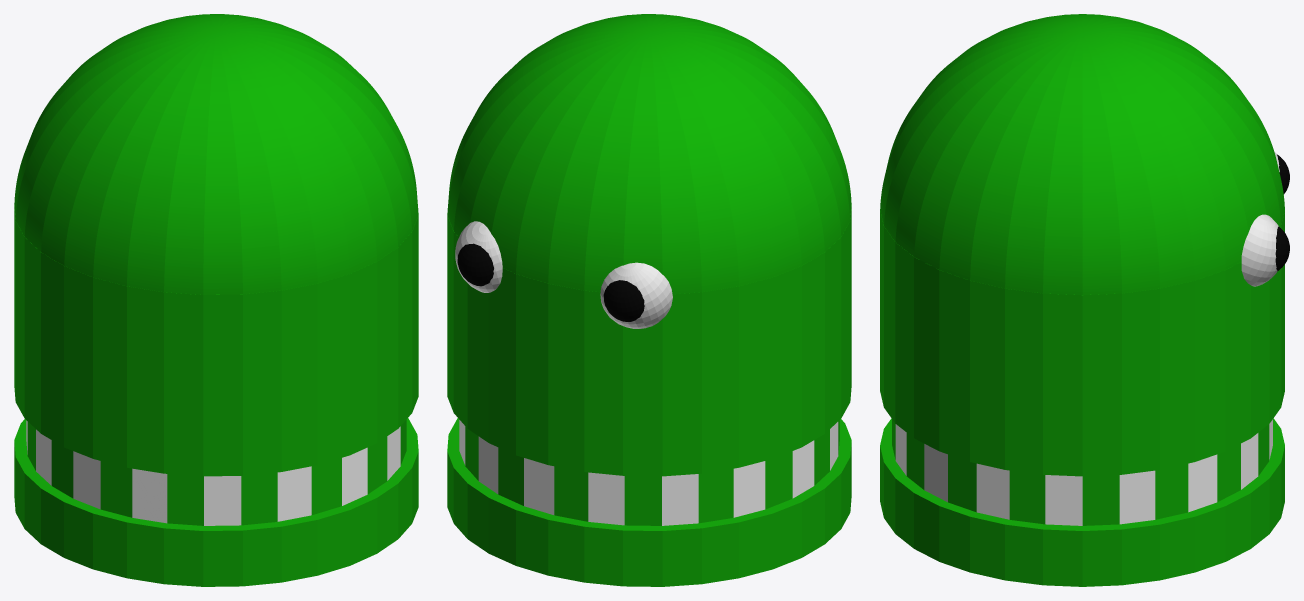
File: Led.fbx
3 views of the same model, side by side, from view 1: azimuth 30°, elevation 25°; view 2: azimuth 150°, elevation 25°; view 3: azimuth 270°, elevation 25° (orthographic).
Visible parts, largest first — view 1: Cylinder, Cylinder.003, Cylinder.001, Cylinder.002; view 2: Cylinder, Cylinder.003, Cylinder.001, Cylinder.002, Sphere.003, Sphere.002, Sphere.004, Sphere.005; view 3: Cylinder, Cylinder.003, Cylinder.001, Cylinder.002, Sphere.002.
Part boxes in pixels (bbox=[...]): Cylinder: bbox=[14, 14, 418, 294]; Cylinder.003: bbox=[14, 205, 418, 476]; Cylinder.001: bbox=[14, 418, 418, 586]; Cylinder.002: bbox=[26, 420, 406, 525]; Cylinder: bbox=[447, 14, 851, 294]; Cylinder.003: bbox=[447, 205, 851, 476]; Cylinder.001: bbox=[447, 418, 851, 586]; Cylinder.002: bbox=[459, 420, 839, 525]; Sphere.003: bbox=[600, 262, 672, 328]; Sphere.002: bbox=[455, 221, 502, 292]; Sphere.004: bbox=[603, 280, 644, 321]; Sphere.005: bbox=[457, 243, 493, 286]; Cylinder: bbox=[880, 14, 1284, 294]; Cylinder.003: bbox=[880, 210, 1284, 476]; Cylinder.001: bbox=[880, 418, 1284, 586]; Cylinder.002: bbox=[892, 419, 1272, 525]; Sphere.002: bbox=[1241, 214, 1278, 286].
Size of the model in its own units: 200 by 255 by 202.
